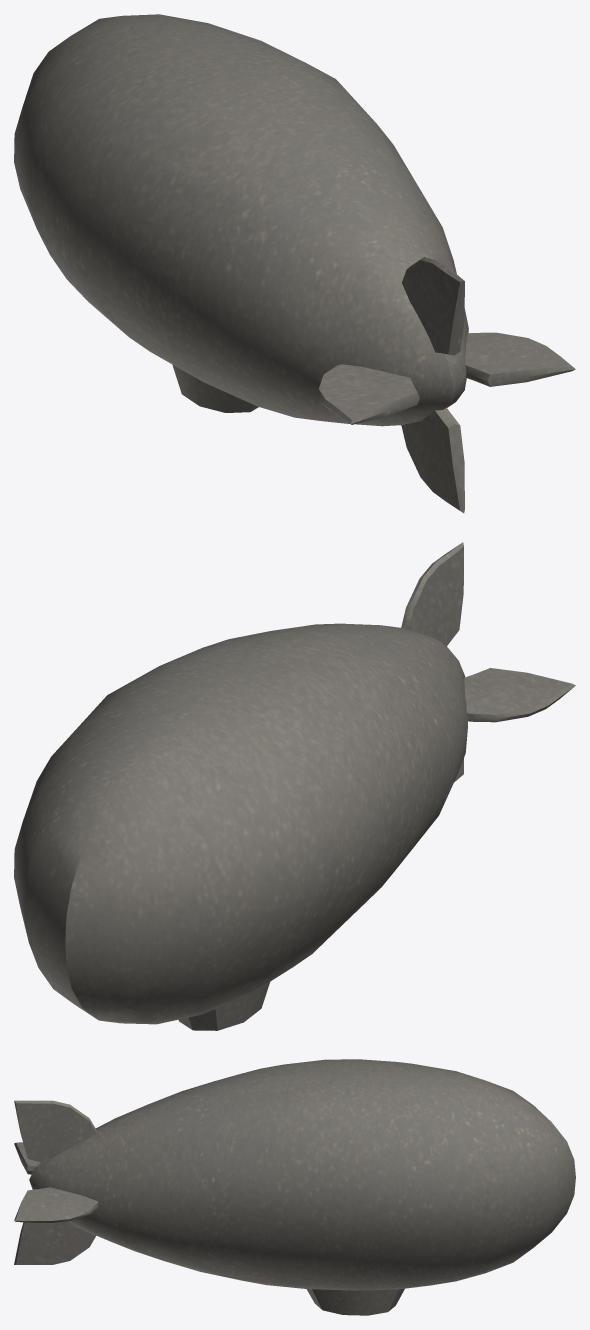
The model's file is blimp.fbx.
The picture shows the model from 3 angles, top to bottom: view 1: azimuth 30°, elevation 25°; view 2: azimuth 150°, elevation 25°; view 3: azimuth 270°, elevation 25°; orthographic projection. The views are drawn at different scales.
Parts seen in each view (by area): view 1: 0_blimp; view 2: 0_blimp; view 3: 0_blimp.
Boxes of the visible parts, <box> form: 0_blimp: <box>14,14,575,513</box>; 0_blimp: <box>14,542,575,1030</box>; 0_blimp: <box>14,1059,575,1315</box>.
Bounding box in the file's own units: 202 × 220 × 481.
